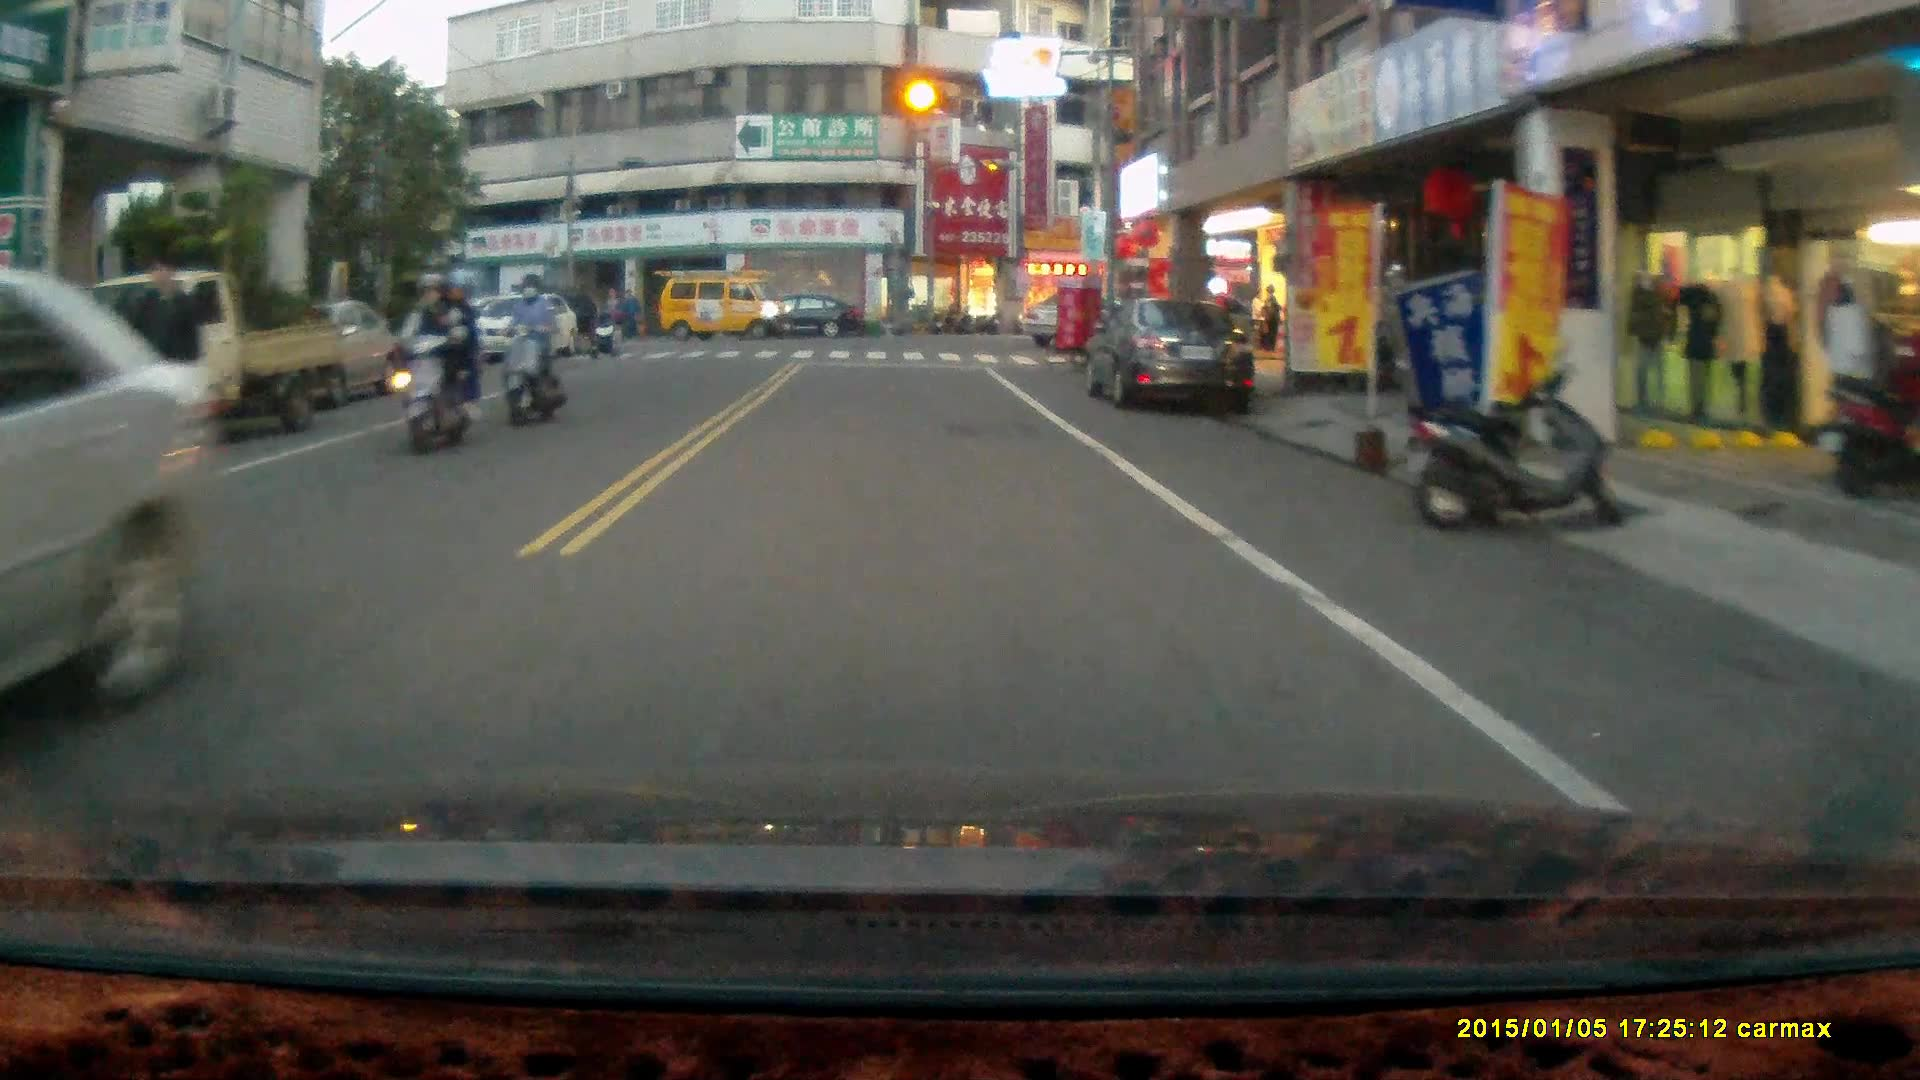pedestrian: (120, 250, 202, 484), (1257, 281, 1280, 356)
rider: (389, 266, 483, 457), (500, 272, 566, 429), (586, 306, 622, 361)
vehicle: (1075, 288, 1265, 429), (659, 268, 791, 340), (753, 291, 864, 339)
